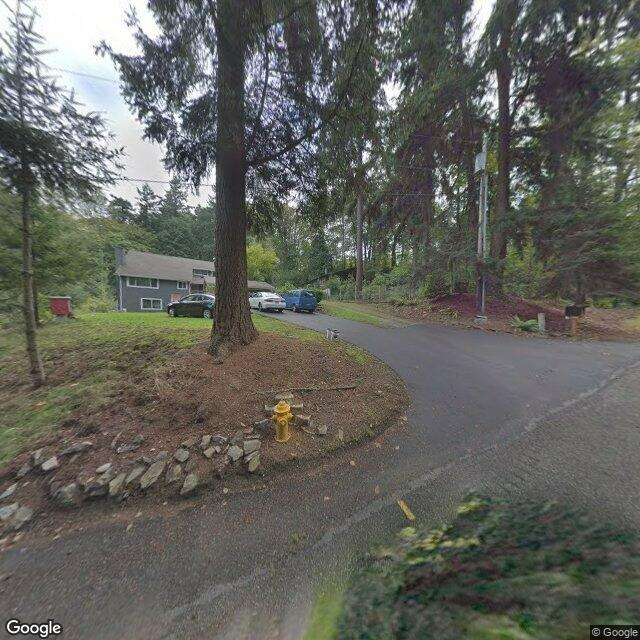hydrant: (271, 393, 294, 445)
